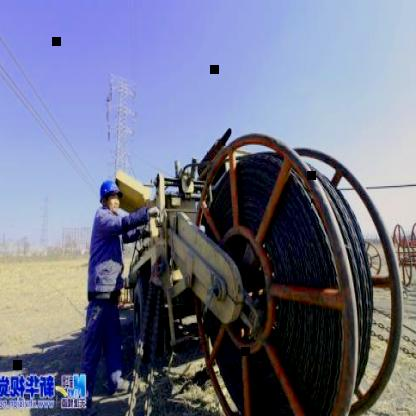helmet: (95, 177, 124, 205)
